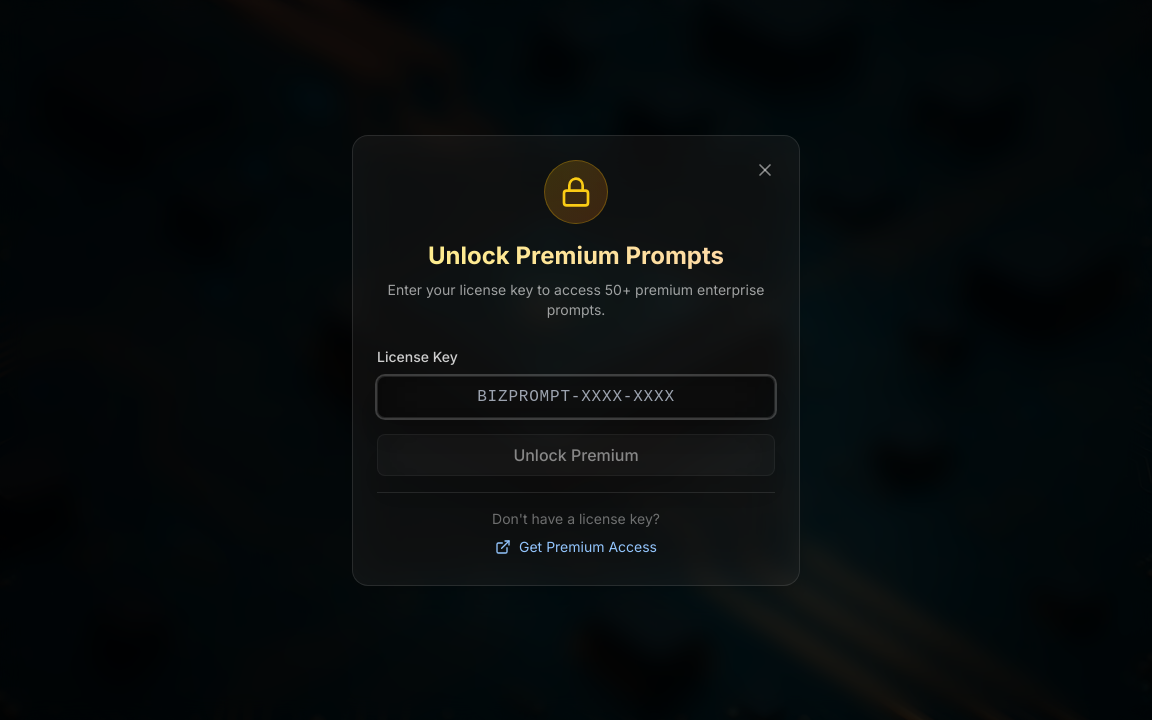
Test: UnlockModal › input behavior › should enable submit button when input has value
The image size is (1152, 720).
Type "SOME-KEY" into the field with placeholder "BIZPROMPT-XXXX-XXXX" at (576, 396), box x1=377 y1=376 x2=775 y2=418
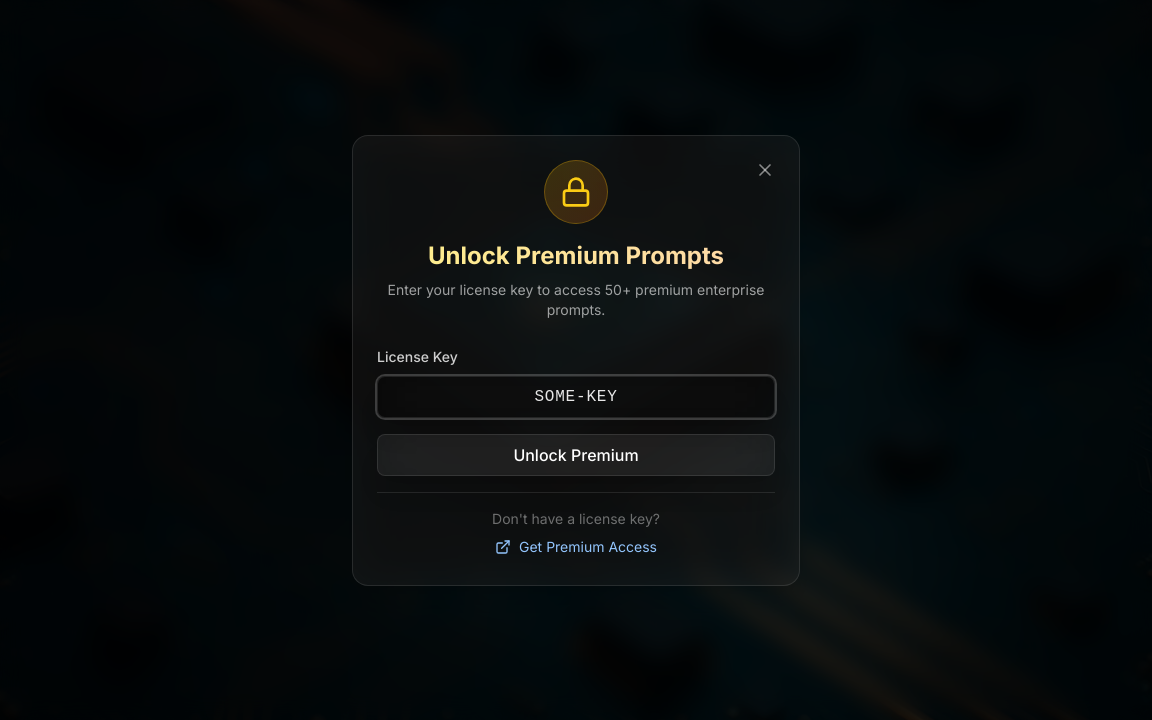
Expected: the button "Unlock Premium" is enabled, x1=377 y1=434 x2=775 y2=476
